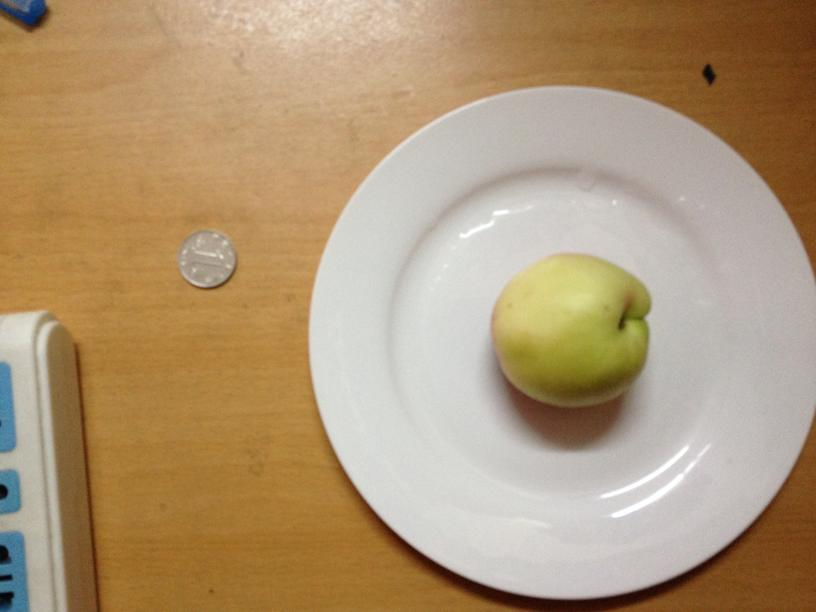coin: (176, 228, 237, 290)
peach: (490, 250, 652, 411)
